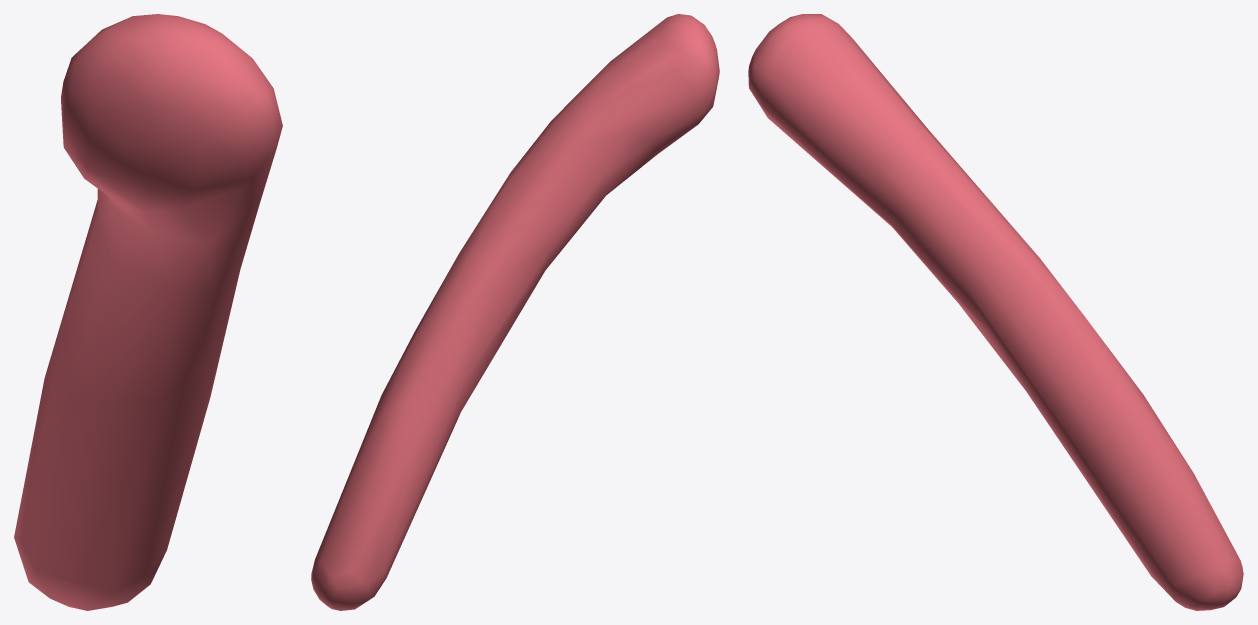
File: fma50306_fj2944.glb
3 renders of one model, left to right at view 1: azimuth 30°, elevation 25°; view 2: azimuth 150°, elevation 25°; view 3: azimuth 270°, elevation 25°, orthographic. The views are drawn at different scales.
Visible parts, largest first — view 1: FMA50306_FJ2944; view 2: FMA50306_FJ2944; view 3: FMA50306_FJ2944.
Boxes of the visible parts, left/top/right/bottom form: FMA50306_FJ2944: left=14, top=14, right=282, bottom=610; FMA50306_FJ2944: left=311, top=14, right=719, bottom=610; FMA50306_FJ2944: left=748, top=14, right=1243, bottom=610.
Size of the model in its own units: 0.0134 by 0.028 by 0.0245.
